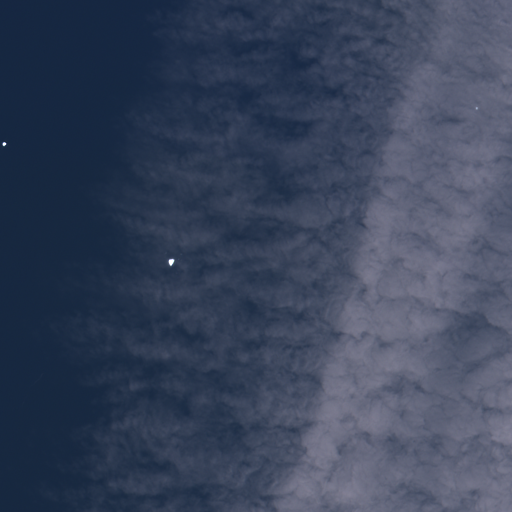Iceberg: (168, 258, 174, 265), (2, 142, 6, 146), (476, 107, 477, 109)
